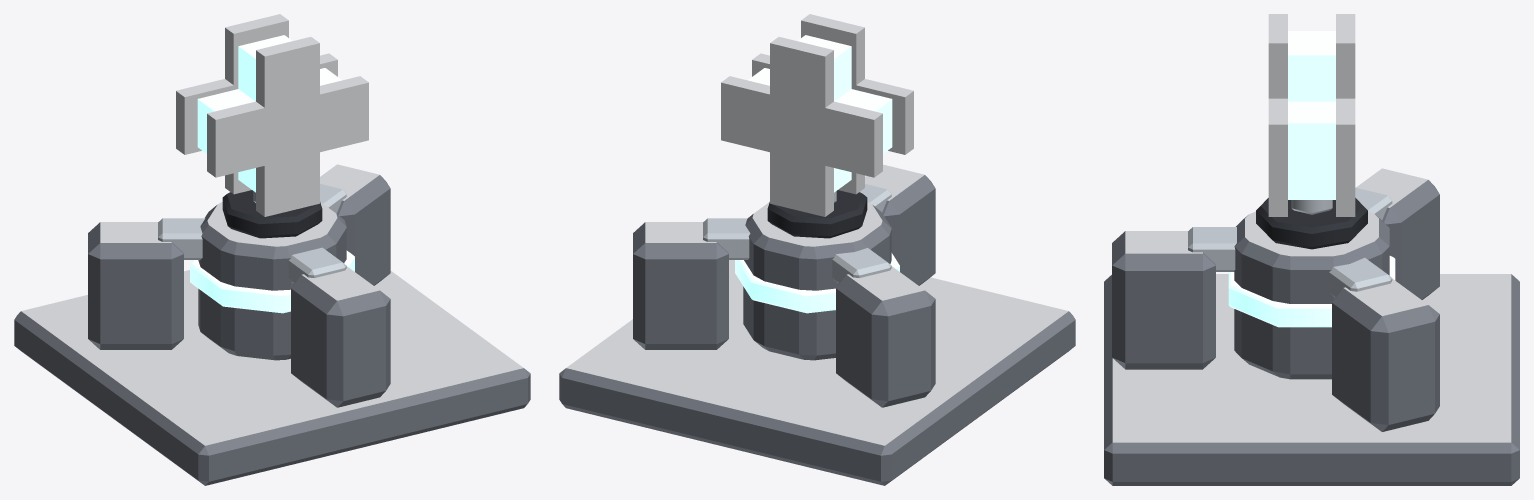
File: R4X_RepairTurretDeployer_LOD1.fbx
3 views of the same model, side by side, from view 1: azimuth 30°, elevation 25°; view 2: azimuth 150°, elevation 25°; view 3: azimuth 270°, elevation 25° (orthographic). The views are drawn at different scales.
Visible parts, largest first — view 1: R4X_RepairTurretDeployer_LOD1; view 2: R4X_RepairTurretDeployer_LOD1; view 3: R4X_RepairTurretDeployer_LOD1.
Boxes of the visible parts, <box> form: R4X_RepairTurretDeployer_LOD1: <box>14,14,530,485</box>; R4X_RepairTurretDeployer_LOD1: <box>559,14,1075,485</box>; R4X_RepairTurretDeployer_LOD1: <box>1104,14,1519,485</box>.
Size of the model in its own units: 0.52 by 0.515 by 0.52.
